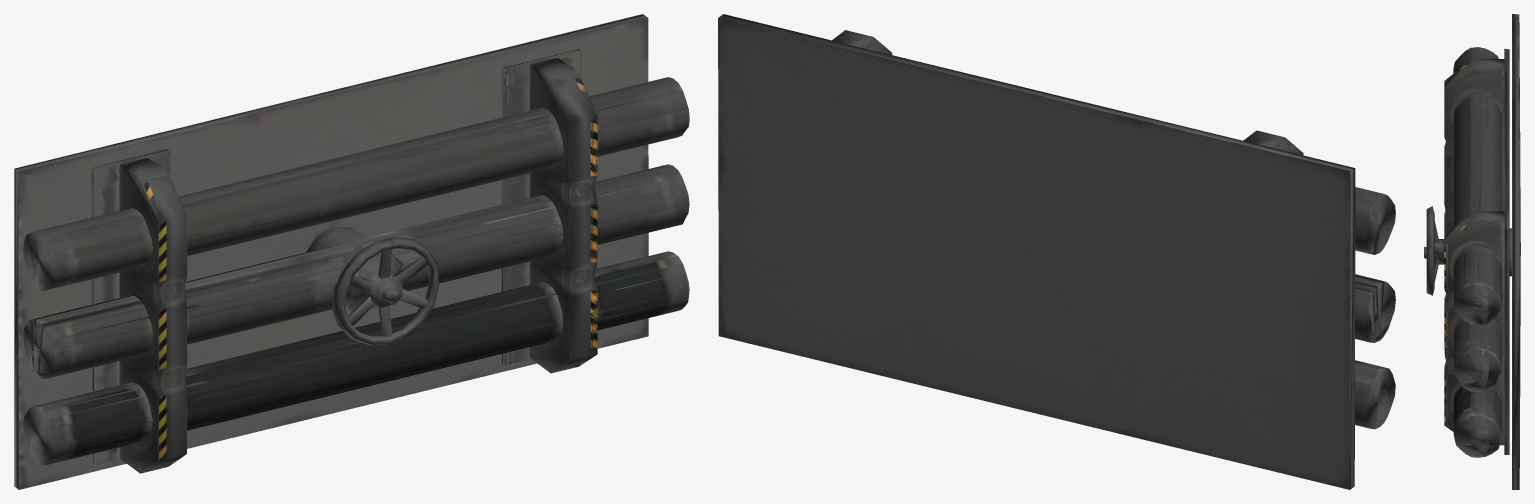
Rendered from pipe_run.glb.
3 views of the same model, side by side, from view 1: azimuth 30°, elevation 25°; view 2: azimuth 150°, elevation 25°; view 3: azimuth 270°, elevation 25° (orthographic). The views are drawn at different scales.
Visible parts, largest first — view 1: pipe_run; view 2: pipe_run; view 3: pipe_run.
Boxes of the visible parts, x1,y1,x2,y2 form: pipe_run: [14, 14, 689, 489]; pipe_run: [718, 14, 1395, 489]; pipe_run: [1424, 14, 1520, 489].
Size of the model in its own units: 4 by 1.92 by 0.6935.
Materials: 1 (1 with a texture image).
